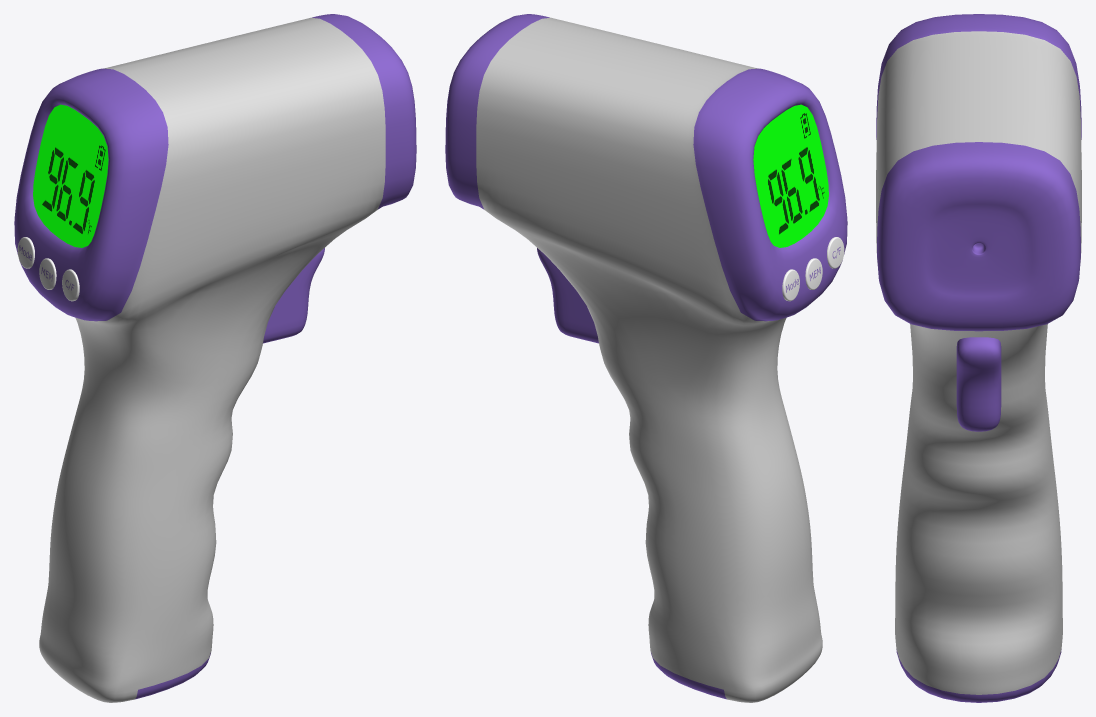
The model's file is laser_thermometer.glb.
The picture shows the model from 3 angles, left to right: view 1: azimuth 30°, elevation 25°; view 2: azimuth 150°, elevation 25°; view 3: azimuth 270°, elevation 25°; orthographic projection. The views are drawn at different scales.
Visible parts, largest first — view 1: Cube, Cube.002, Cube.001, Cylinder; view 2: Cube, Cube.002, Cube.001, Cylinder; view 3: Cube, Cube.001.
Part boxes in pixels (<box>): Cube: <box>14,14,416,702</box>; Cube.002: <box>33,104,108,247</box>; Cube.001: <box>263,248,324,343</box>; Cylinder: <box>17,237,79,301</box>; Cube: <box>445,14,847,702</box>; Cube.002: <box>753,104,828,247</box>; Cube.001: <box>537,248,598,343</box>; Cylinder: <box>782,237,844,301</box>; Cube: <box>876,14,1081,702</box>; Cube.001: <box>956,337,1001,431</box>.
Size of the model in its own units: 18.36 by 31.25 by 8.99.
Materials: 4 (2 with a texture image).
